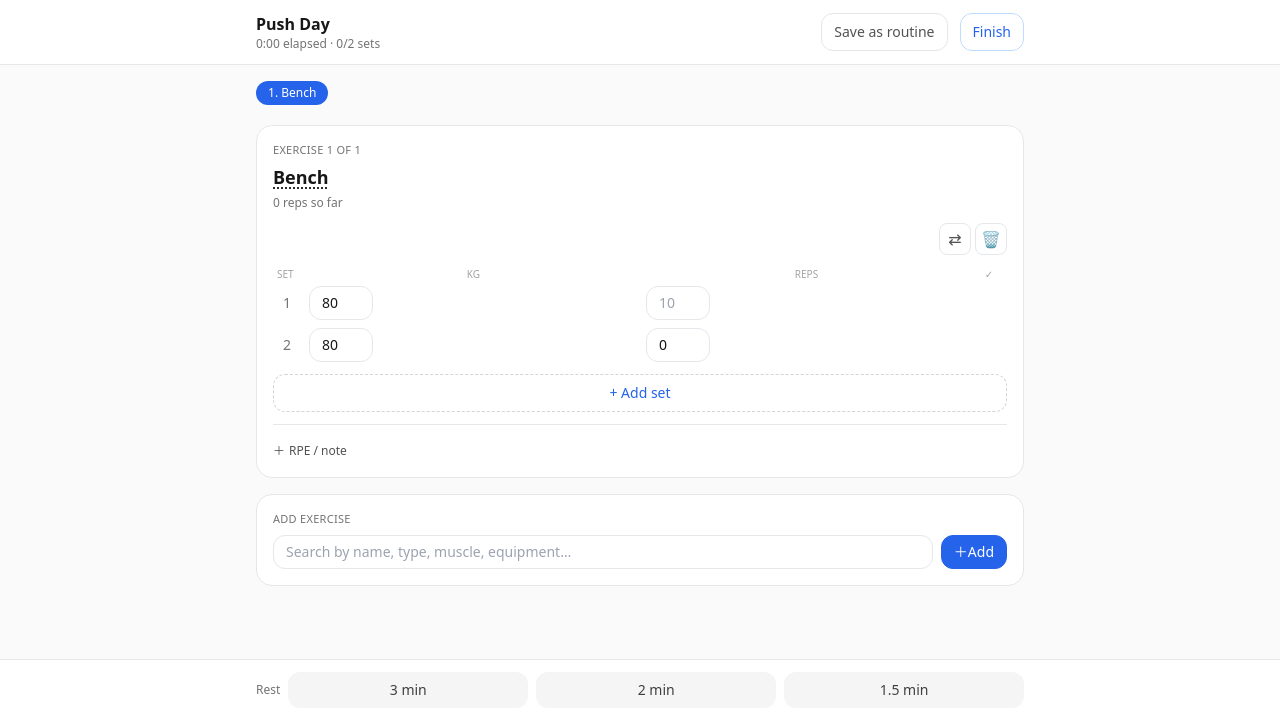
Scenario: LiveSession › counts no sets as logged until reps are typed
Expected: the text "0:00 elapsed · 0/2 sets" is shown, [256, 35, 380, 52]
In the number field with placeholder "10": {"x": 678, "y": 302} [646, 286, 710, 320], type "9"
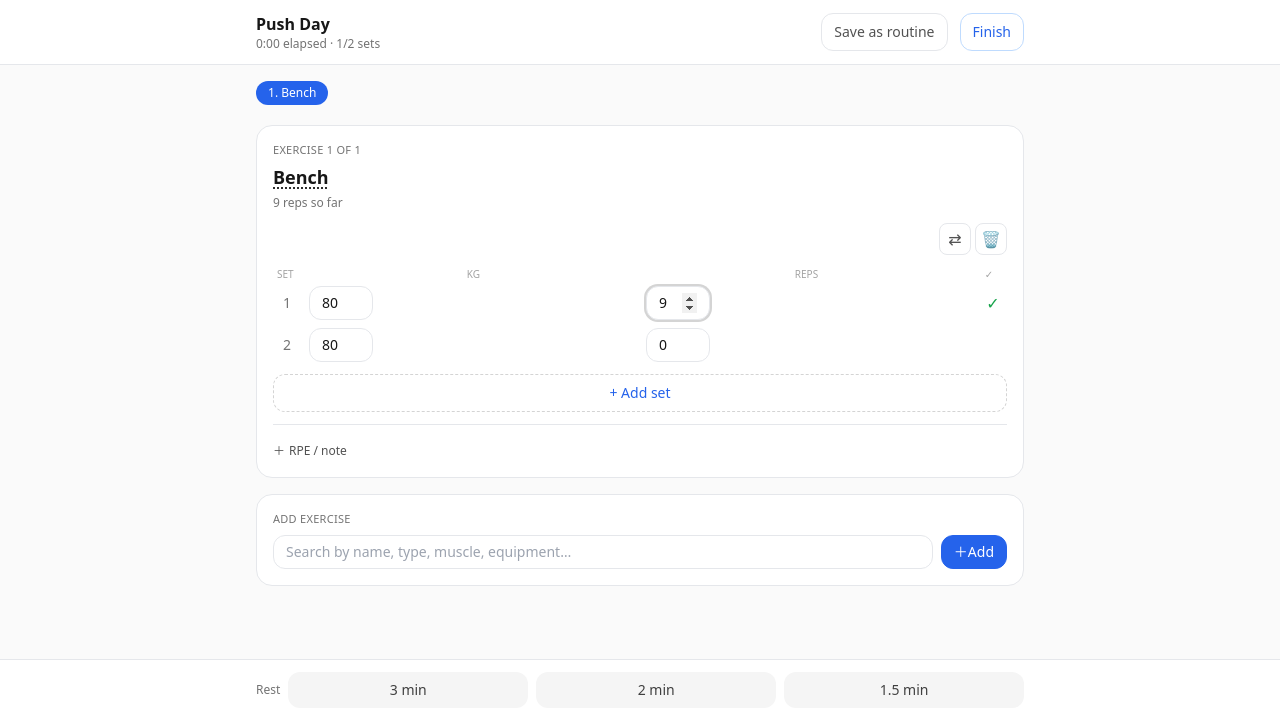
Now the text "0:00 elapsed · 1/2 sets" is shown, box [256, 35, 380, 52]
